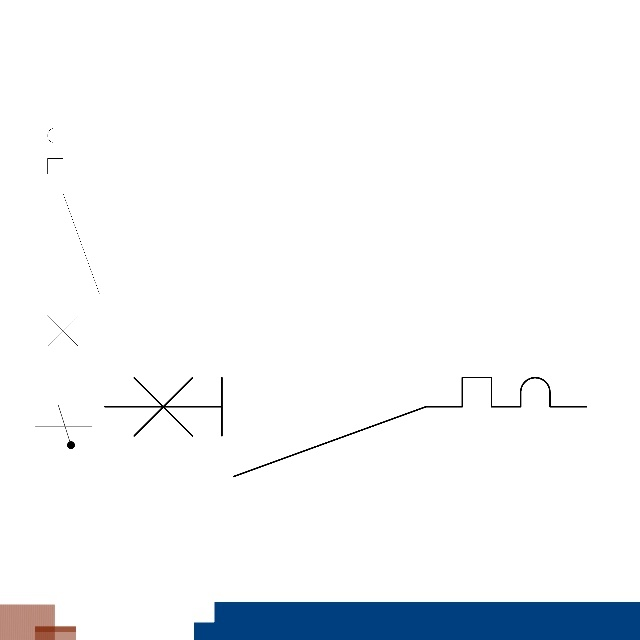interruptor_termomagnetico: (92, 365, 599, 489), (41, 102, 106, 367)
